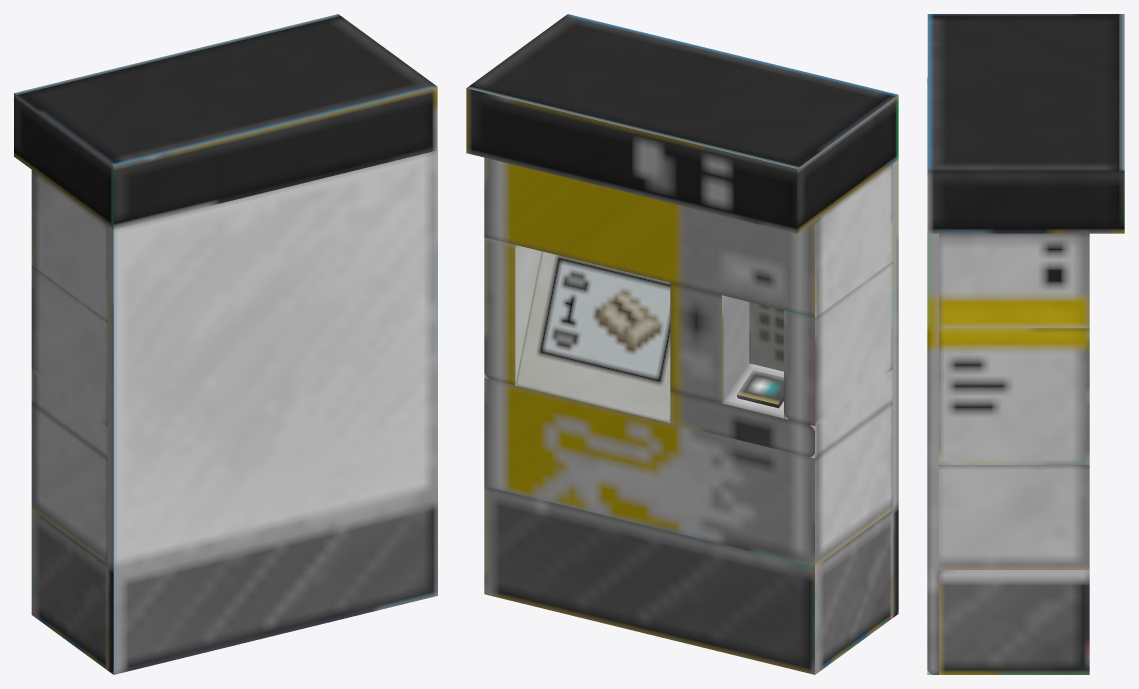
File: bewegt_fahrkartenautomat.obj
3 renders of one model, left to right at view 1: azimuth 30°, elevation 25°; view 2: azimuth 150°, elevation 25°; view 3: azimuth 270°, elevation 25°, orthographic. The views are drawn at different scales.
Parts seen in each view (by area): view 1: cube; view 2: cube; view 3: cube.
Part boxes in pixels (x1,y1,x2,y2): cube: (14, 14, 437, 674); cube: (466, 14, 898, 674); cube: (927, 14, 1124, 674).
Bounding box in the file's own units: 2 × 3 × 1.06.
